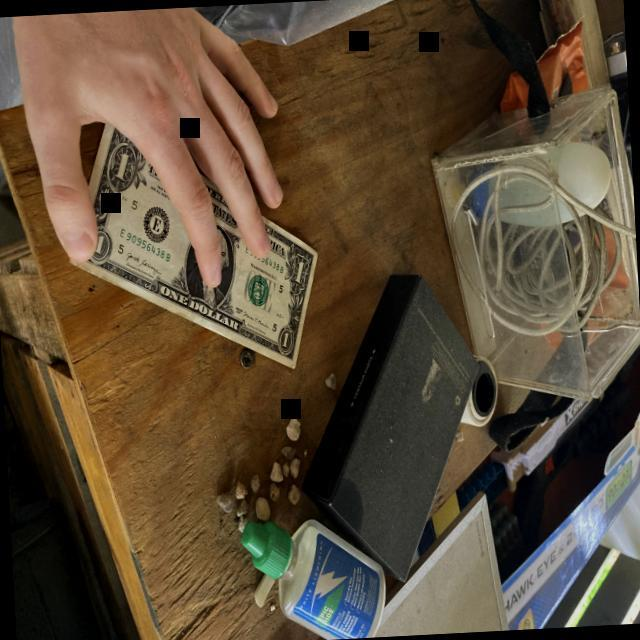one: (68, 115, 319, 371)
